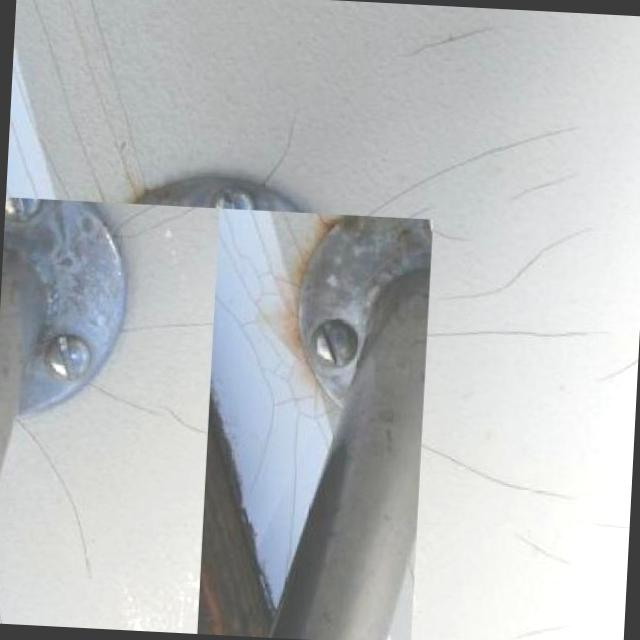crack: (418, 212, 618, 326), (0, 421, 137, 574), (414, 312, 606, 381), (417, 434, 566, 514), (380, 3, 516, 89), (443, 511, 579, 575), (101, 298, 212, 358), (83, 374, 185, 432), (490, 158, 586, 206), (248, 119, 304, 190)
